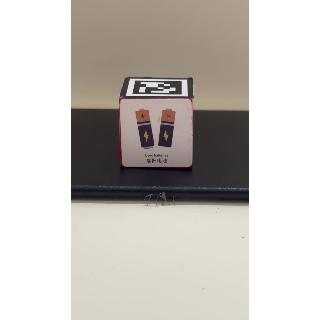Used_Battery: (122, 100, 194, 167)
